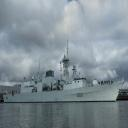Fragata: (4, 36, 126, 104)
